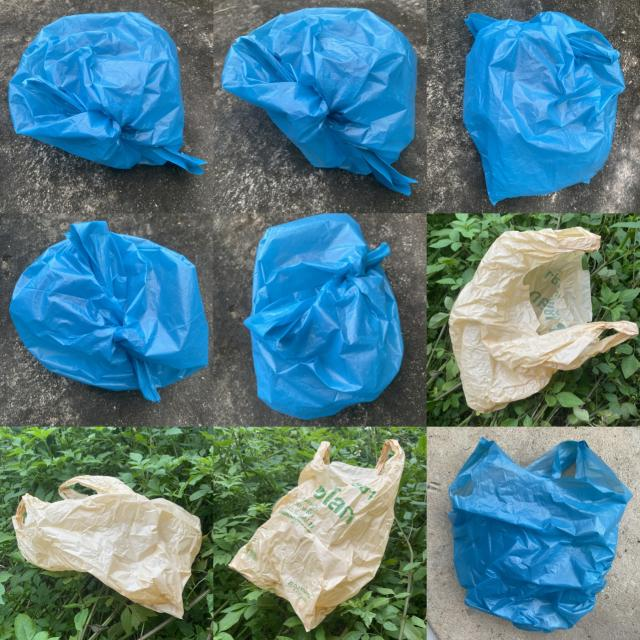Single-layer Plastic: (222, 8, 418, 195), (10, 221, 209, 401), (449, 439, 631, 632), (449, 228, 639, 412), (230, 440, 405, 631), (245, 214, 404, 419), (9, 12, 204, 174), (464, 11, 625, 204), (12, 475, 201, 618)
